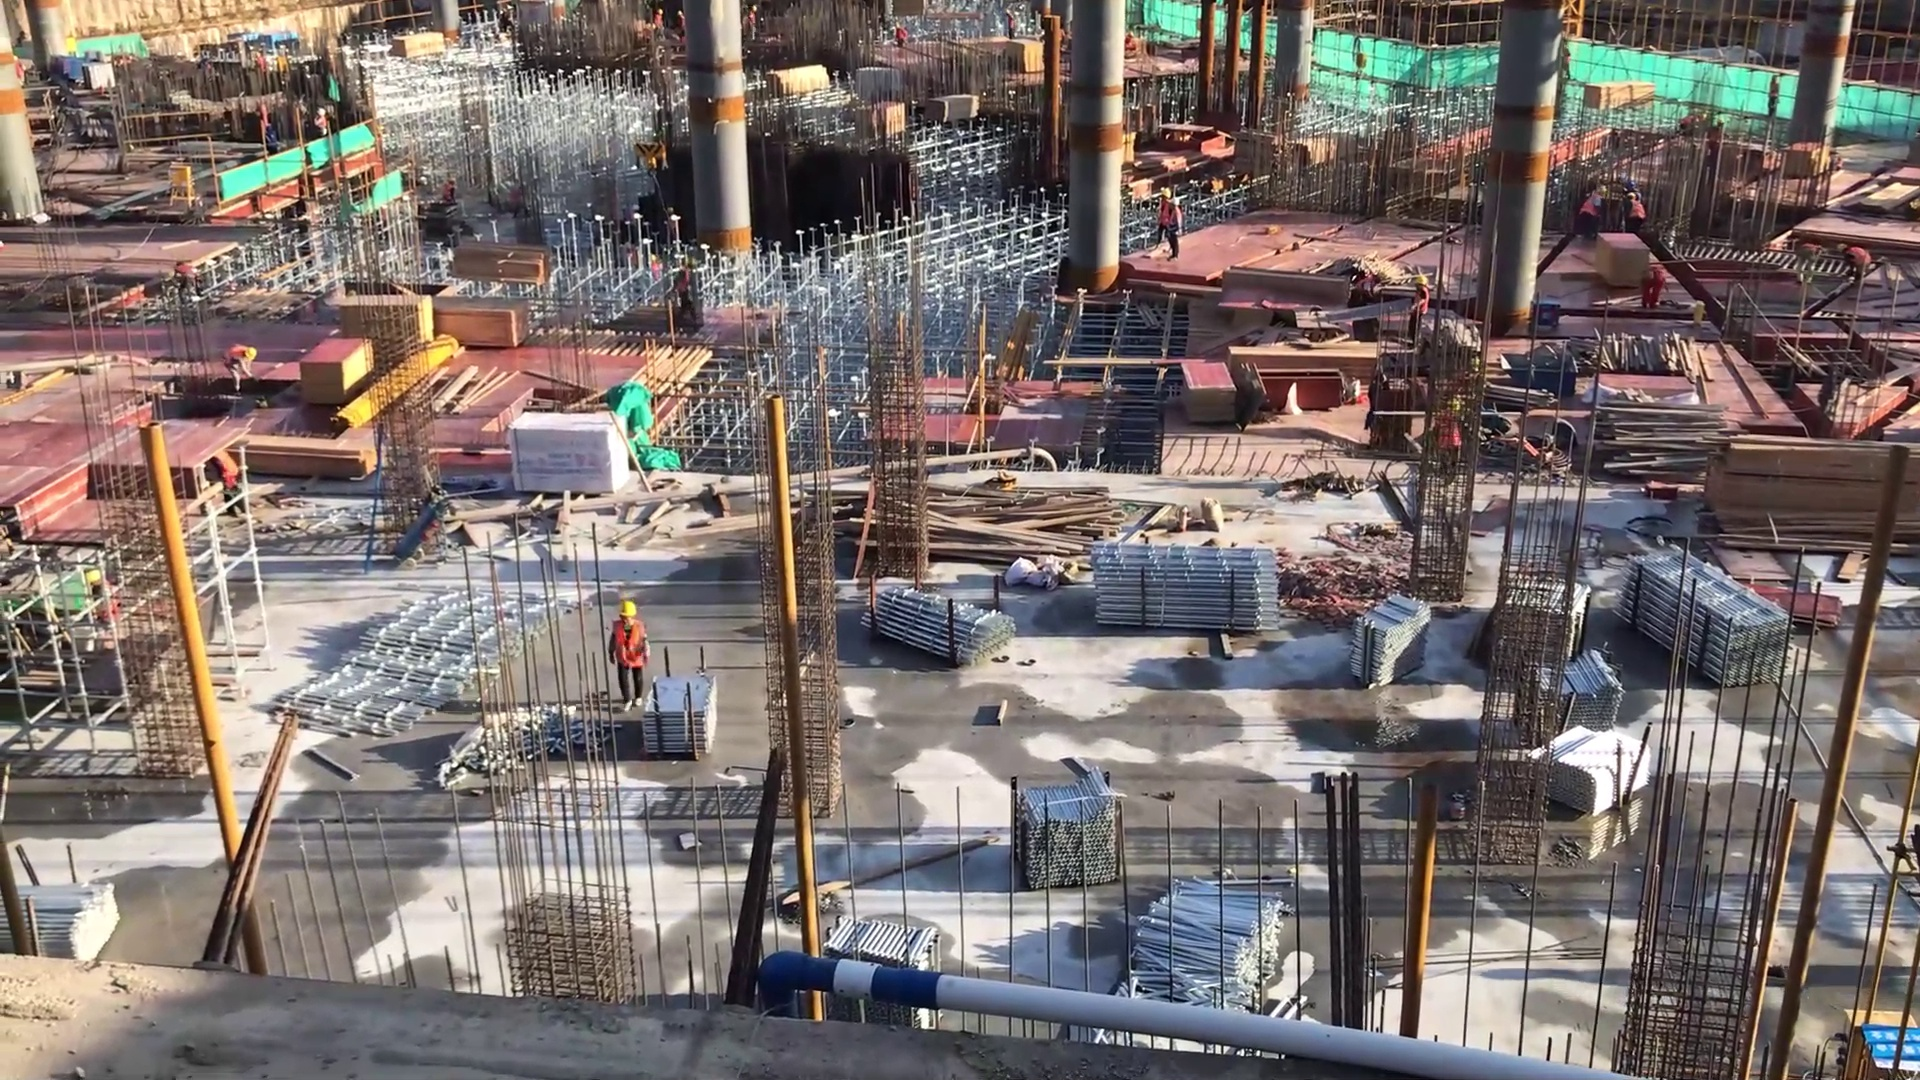board: (1725, 577, 1853, 637), (336, 289, 434, 361), (300, 328, 378, 414), (1176, 355, 1243, 433), (998, 37, 1044, 76)
ebox: (163, 162, 198, 220)
helmet: (619, 602, 640, 624), (1414, 273, 1430, 292), (242, 345, 258, 362), (314, 106, 328, 119), (1168, 196, 1181, 209), (1836, 244, 1849, 254)
hook: (1500, 355, 1581, 399)
person: (605, 601, 659, 705), (209, 443, 254, 521), (1343, 266, 1388, 315), (222, 339, 261, 395), (1575, 184, 1612, 245), (672, 253, 701, 330), (1154, 185, 1176, 258), (1636, 268, 1674, 312), (1839, 241, 1875, 287), (1410, 274, 1431, 347), (1762, 69, 1788, 123), (1795, 240, 1829, 278), (1165, 195, 1183, 261), (1621, 191, 1647, 236), (173, 260, 200, 299), (440, 174, 461, 208), (893, 19, 912, 50), (314, 105, 329, 138), (1004, 10, 1018, 43), (652, 4, 665, 34)
scaffold: (1601, 539, 1795, 691), (1140, 877, 1315, 1034), (1093, 539, 1276, 645), (994, 771, 1140, 905), (1, 866, 145, 985), (800, 916, 951, 1021), (863, 588, 1015, 669), (1344, 591, 1447, 695), (1523, 652, 1626, 745)
vest: (609, 620, 654, 673), (1580, 194, 1603, 226), (1845, 246, 1872, 272), (1167, 206, 1184, 239), (1627, 197, 1647, 222)
wood: (928, 484, 1119, 568), (1708, 427, 1799, 558), (1593, 401, 1727, 484), (1224, 344, 1386, 386), (446, 232, 551, 286), (245, 438, 383, 479), (435, 292, 528, 351), (1577, 77, 1659, 115), (762, 63, 831, 101), (927, 93, 980, 125)
